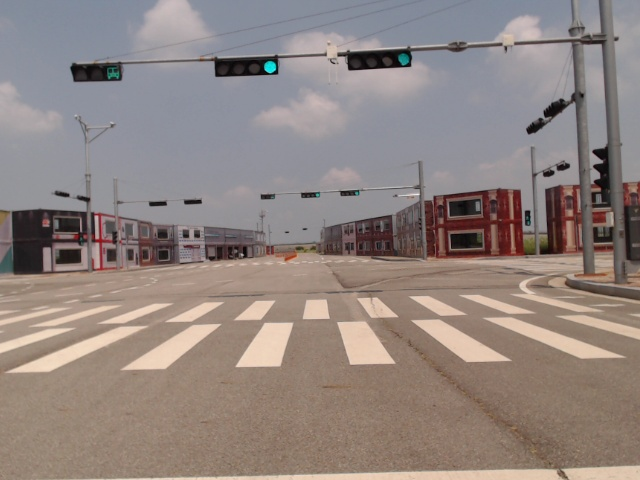straight_green_4: (348, 48, 412, 71), (215, 56, 280, 77), (340, 190, 360, 197), (300, 192, 320, 198)
